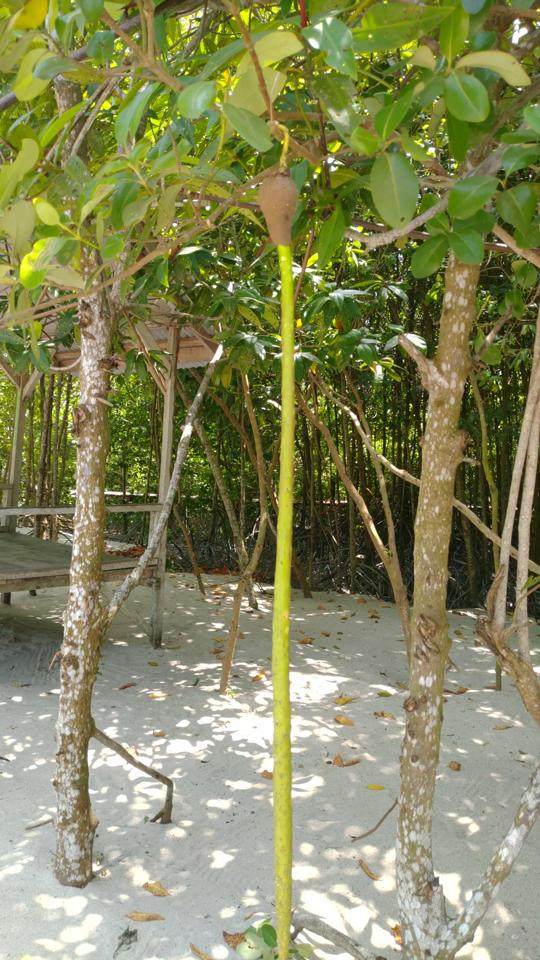mentah: (246, 147, 319, 958)
